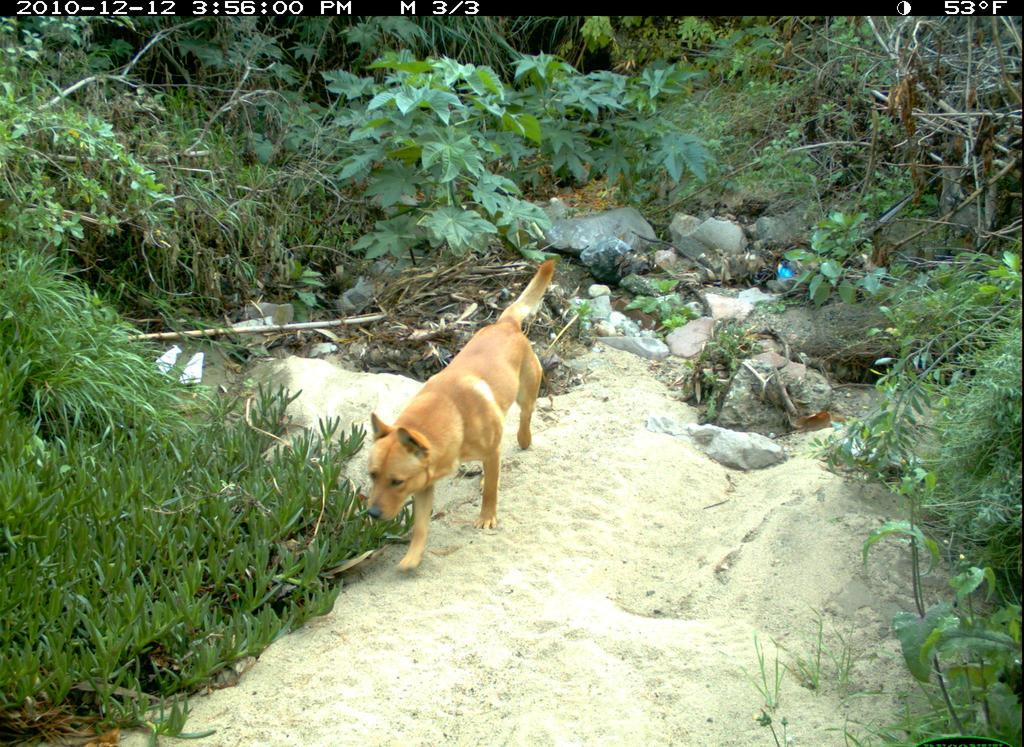dog: (350, 248, 603, 589)
